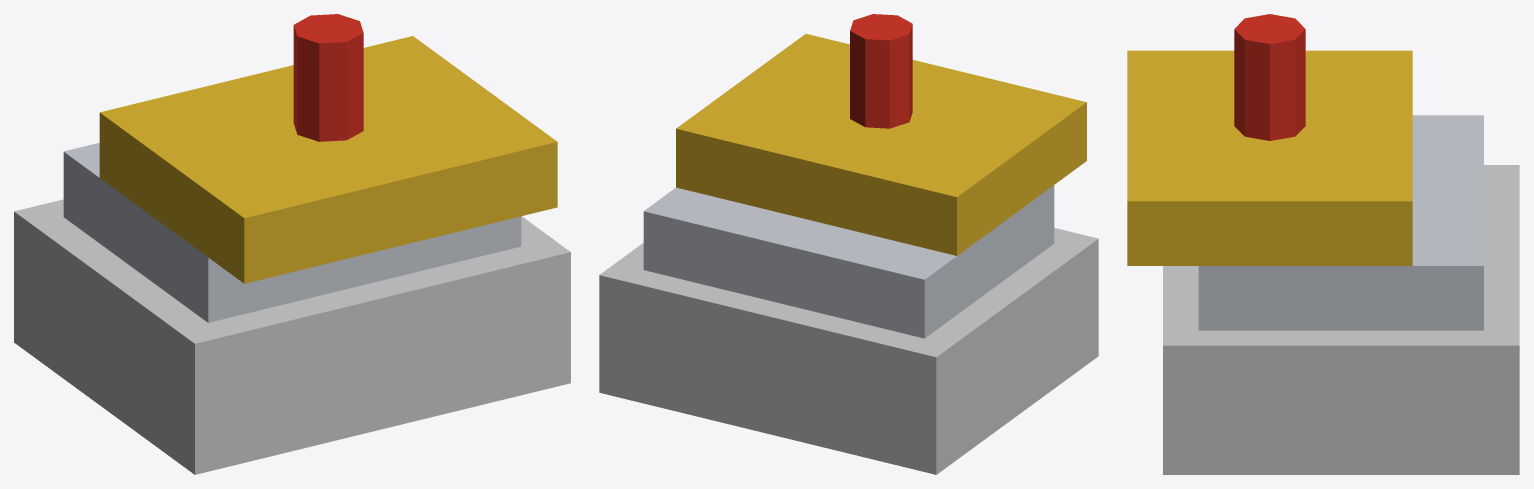
File: guidance_terrain.obj
3 renders of one model, left to right at view 1: azimuth 30°, elevation 25°; view 2: azimuth 150°, elevation 25°; view 3: azimuth 270°, elevation 25°, orthographic. The views are drawn at different scales.
Visible parts, largest first — view 1: guidance_terrain; view 2: guidance_terrain; view 3: guidance_terrain.
Boxes of the visible parts, x1,y1,x2,y2 form: guidance_terrain: (14,14,570,474); guidance_terrain: (599,14,1098,474); guidance_terrain: (1127,14,1519,474).
Size of the model in its own units: 0.24 by 0.22 by 0.22.
